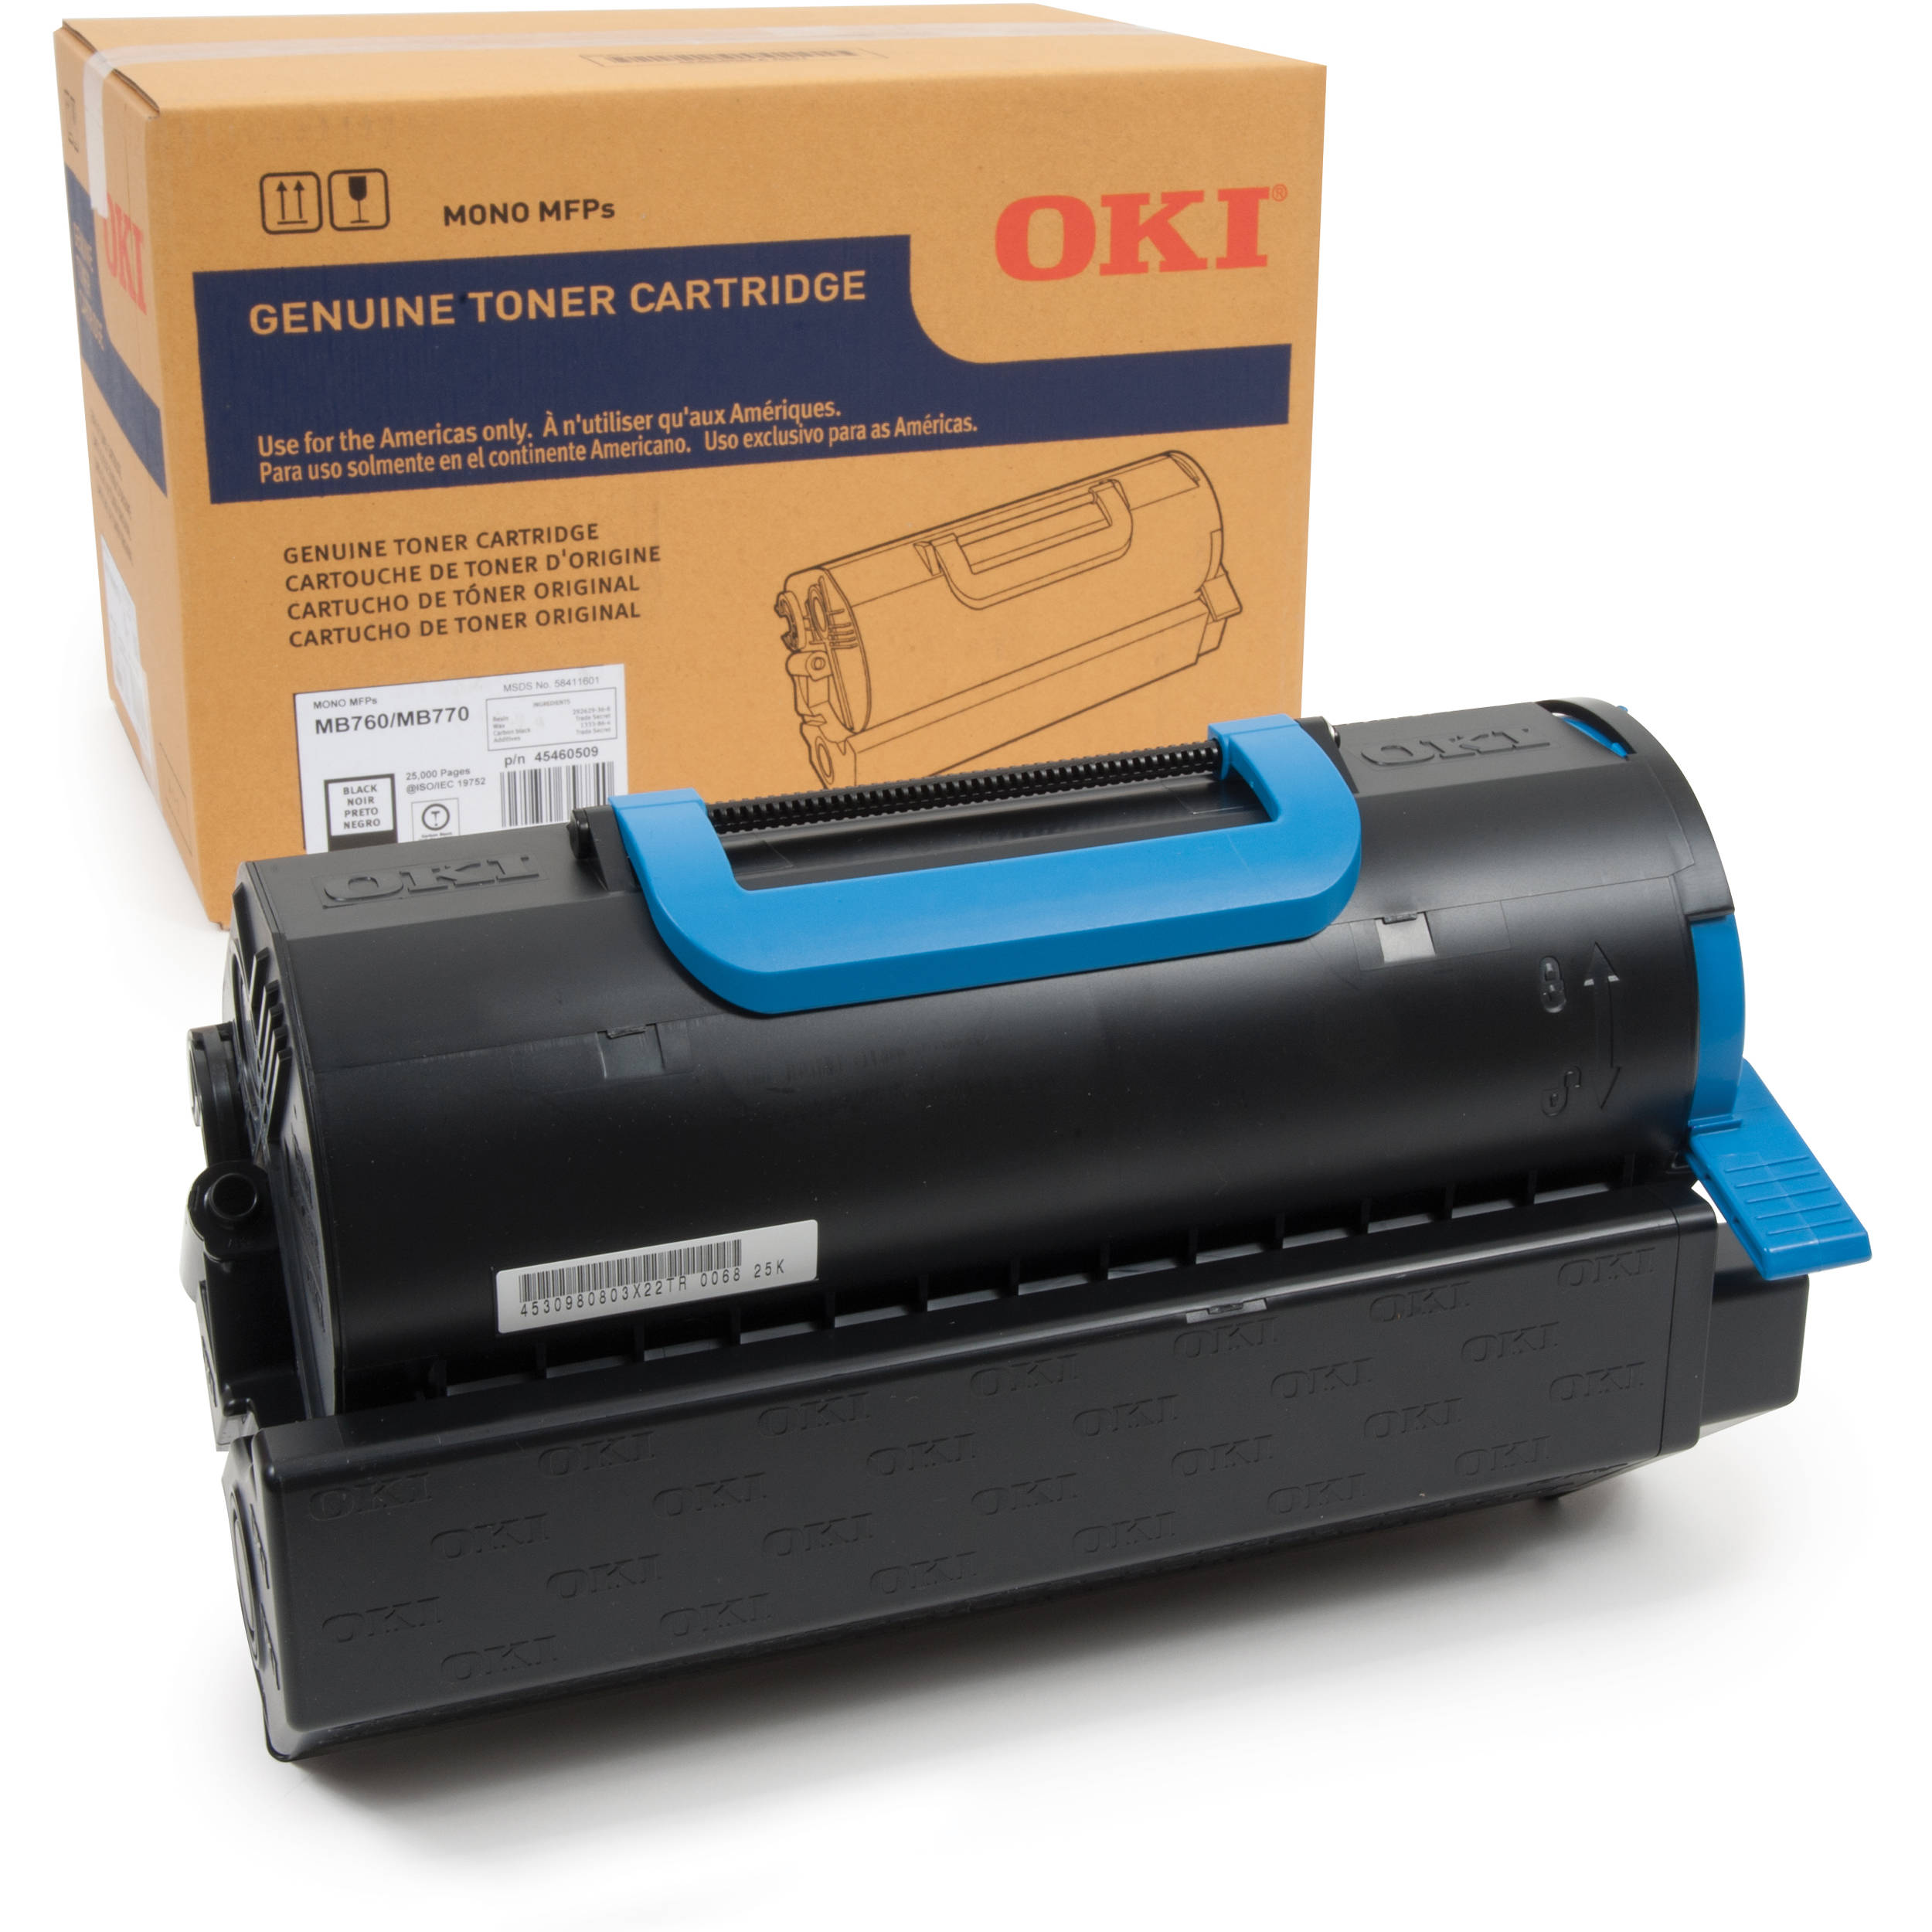Nonrec_Other: (189, 847, 1801, 1764)
Rec_Paper: (55, 25, 1318, 724)
